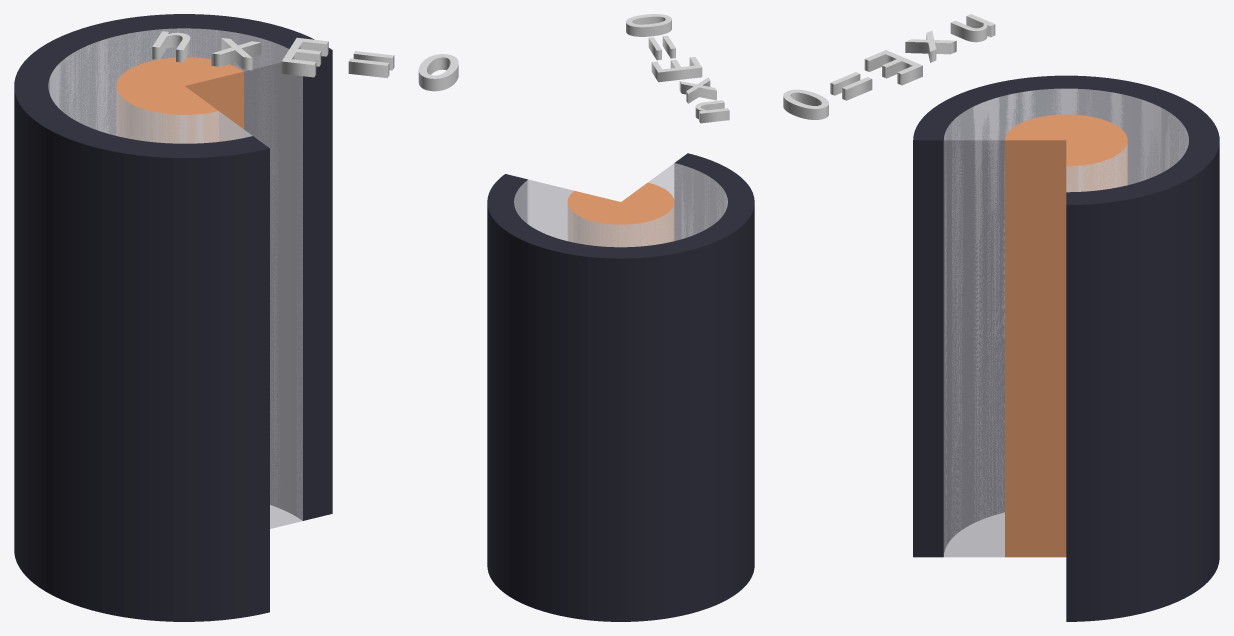
The model's file is Coaxial.glb.
3 renders of one model, left to right at view 1: azimuth 30°, elevation 25°; view 2: azimuth 150°, elevation 25°; view 3: azimuth 270°, elevation 25°, orthographic. The views are drawn at different scales.
Visible parts, largest first — view 1: Outer_Graphene_Shield, Middle_hBN_Dielectric, Inner_Copper_Core, Boundary_Condition_Text; view 2: Outer_Graphene_Shield, Middle_hBN_Dielectric, Inner_Copper_Core, Boundary_Condition_Text; view 3: Outer_Graphene_Shield, Middle_hBN_Dielectric, Inner_Copper_Core, Boundary_Condition_Text.
Part boxes in pixels (bbox=[...]): Outer_Graphene_Shield: bbox=[14, 14, 332, 621]; Middle_hBN_Dielectric: bbox=[48, 28, 302, 528]; Inner_Copper_Core: bbox=[116, 57, 243, 143]; Boundary_Condition_Text: bbox=[152, 31, 458, 91]; Outer_Graphene_Shield: bbox=[487, 153, 754, 621]; Middle_hBN_Dielectric: bbox=[514, 163, 727, 247]; Inner_Copper_Core: bbox=[567, 182, 674, 246]; Boundary_Condition_Text: bbox=[626, 14, 729, 123]; Outer_Graphene_Shield: bbox=[913, 75, 1219, 621]; Middle_hBN_Dielectric: bbox=[943, 88, 1188, 557]; Inner_Copper_Core: bbox=[1005, 114, 1127, 557]; Boundary_Condition_Text: bbox=[783, 14, 995, 119].
Size of the model in its own units: 4 by 7.28 by 5.69.
